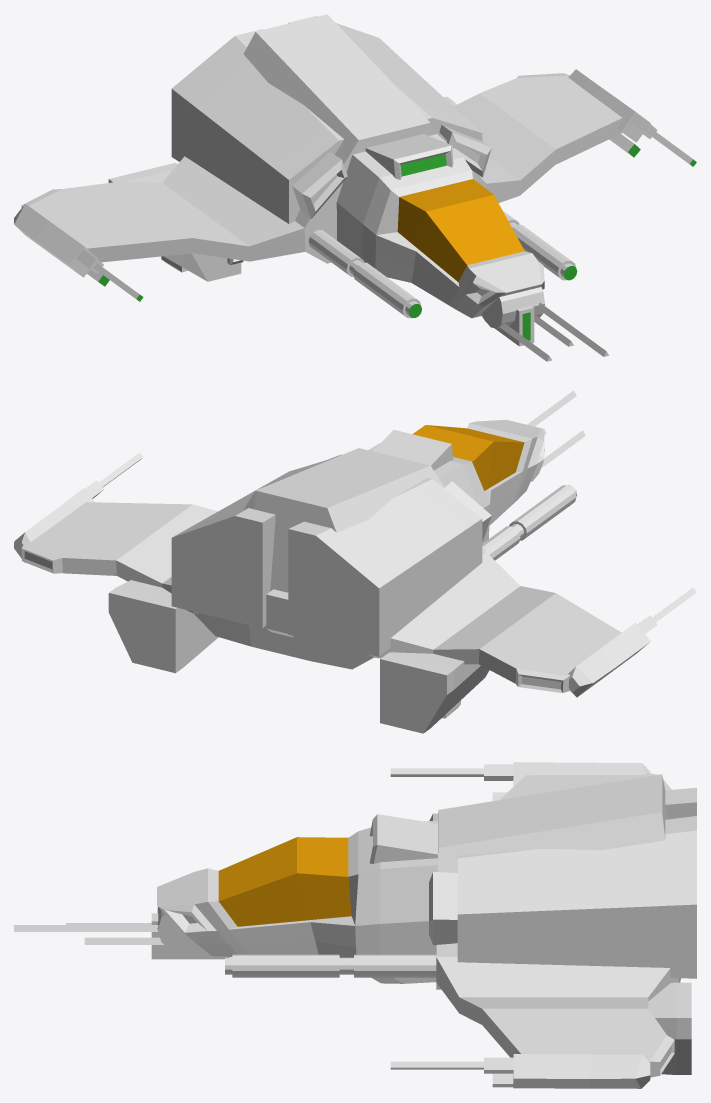
Rendered from ship 1.fbx.
The picture shows the model from 3 angles, top to bottom: view 1: azimuth 30°, elevation 25°; view 2: azimuth 150°, elevation 25°; view 3: azimuth 270°, elevation 25°; orthographic projection. The views are drawn at different scales.
Visible parts, largest first — view 1: Cube.017, Cube.014, Ship, Cube.018, Cylinder.002, Cube.019, Cube.021; view 2: Cube.017, Cube.014, Cube.021, Ship, Cube.018, Cylinder.002, Cube.020, Cube.019; view 3: Cube.017, Cube.014, Ship, Cube.018, Cylinder.002, Cube.019, Cube.021.
Boxes of the visible parts, box(x1,y1,x2,y2) form: Cube.017: box(14, 14, 696, 301); Cube.014: box(171, 16, 491, 223); Ship: box(336, 134, 544, 318); Cube.018: box(397, 179, 524, 281); Cylinder.002: box(308, 211, 577, 318); Cube.019: box(482, 287, 608, 361); Cube.021: box(108, 96, 456, 281); Cube.017: box(14, 448, 696, 697); Cube.014: box(171, 454, 491, 656); Cube.021: box(108, 580, 489, 733); Ship: box(368, 419, 544, 543); Cube.018: box(412, 425, 524, 490); Cylinder.002: box(482, 485, 577, 560); Cube.020: box(266, 589, 293, 637); Cube.019: box(527, 390, 585, 481); Cube.017: box(390, 762, 680, 1088); Cube.014: box(429, 787, 696, 978); Ship: box(157, 814, 437, 983); Cube.018: box(218, 837, 351, 926); Cylinder.002: box(225, 954, 436, 977); Cube.019: box(14, 907, 229, 959); Cube.021: box(648, 982, 691, 1074).
Size of the model in its own units: 1353 by 434 by 1268.
